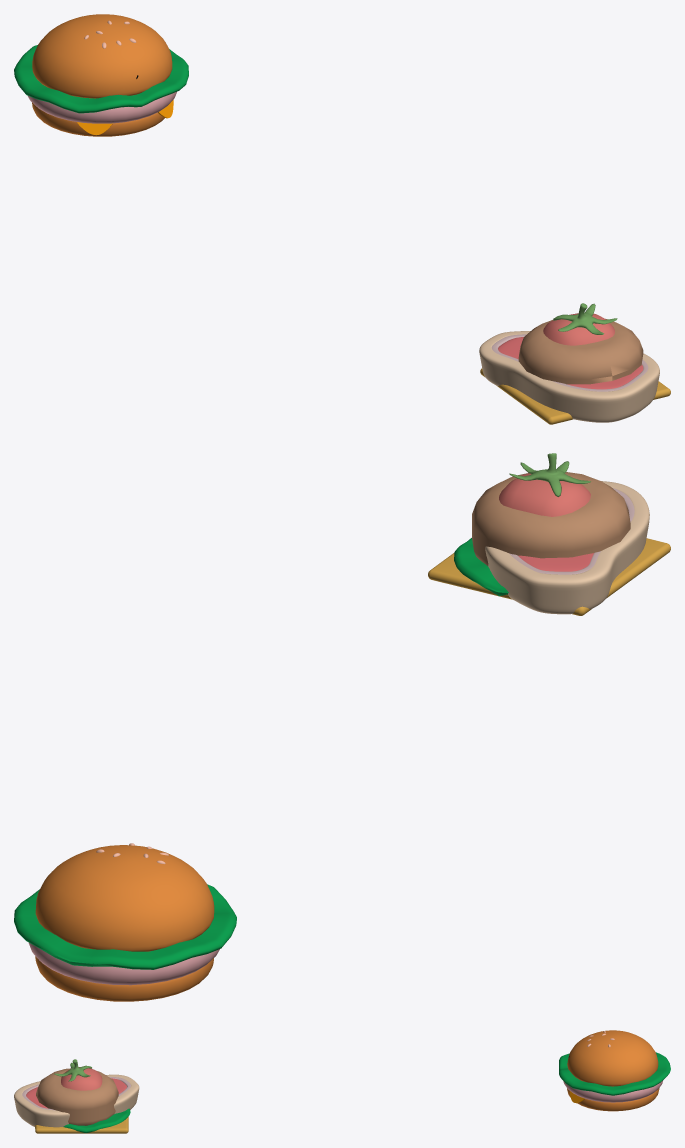
Rendered from burger-items.glb.
The picture shows the model from 3 angles, top to bottom: view 1: azimuth 30°, elevation 25°; view 2: azimuth 150°, elevation 25°; view 3: azimuth 270°, elevation 25°; orthographic projection. The views are drawn at different scales.
Visible parts, largest first — view 1: Bread_Up, brown, Cylinder 36, Lettuce, Meat, Bread_Down, tomato1, cheese, meat1, Cylinder.007, white.001; view 2: Bread_Up, Cylinder 36, brown, Lettuce, Bread_Down, Meat, tomato1, cheese, lettuce, Cylinder.007, meat1; view 3: Bread_Up, Cylinder 36, brown, Lettuce, Meat, Bread_Down, tomato1, cheese, lettuce, Cylinder.007, meat1, white.001.
Part boxes in pixels (x1,y1,x2,y2): Bread_Up: (32,14,172,98); brown: (479,331,659,422); Cylinder 36: (518,318,643,384); Lettuce: (14,45,188,113); Meat: (27,92,176,123); Bread_Down: (32,102,164,136); tomato1: (543,313,614,345); cheese: (480,368,670,424); meat1: (498,337,643,389); Cylinder.007: (553,303,617,334); white.001: (491,334,648,391); Bread_Up: (35,845,214,951); Cylinder 36: (472,472,630,565); brown: (485,481,649,614); Lettuce: (14,884,236,969); Bread_Down: (35,956,213,1001); Meat: (28,942,219,985); tomato1: (499,473,590,516); cheese: (428,538,670,615); lettuce: (454,538,508,596); Cylinder.007: (509,453,590,496); meat1: (518,553,593,571); Bread_Up: (567,1030,658,1086); Cylinder 36: (36,1068,118,1125); brown: (14,1074,139,1127); Lettuce: (559,1052,670,1095); Meat: (563,1081,662,1102); Bread_Down: (567,1088,659,1111); tomato1: (61,1067,102,1090); cheese: (35,1117,128,1133); lettuce: (63,1108,130,1133); Cylinder.007: (54,1059,91,1081); meat1: (26,1078,126,1108); white.001: (22,1077,130,1110).
Size of the model in its own units: 1.1 by 0.446 by 4.54.
